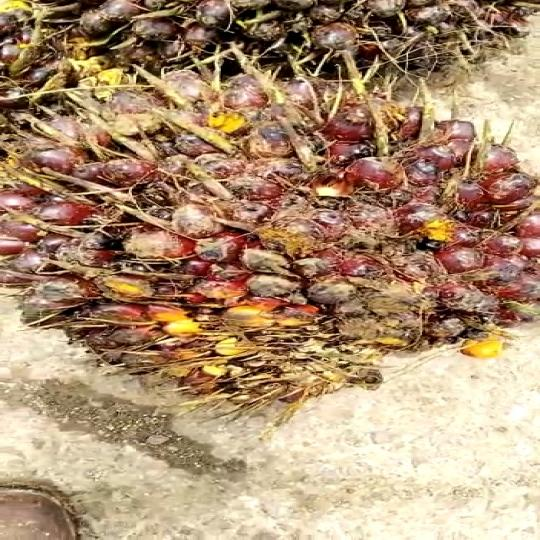kurang masak: (4, 60, 540, 415)
